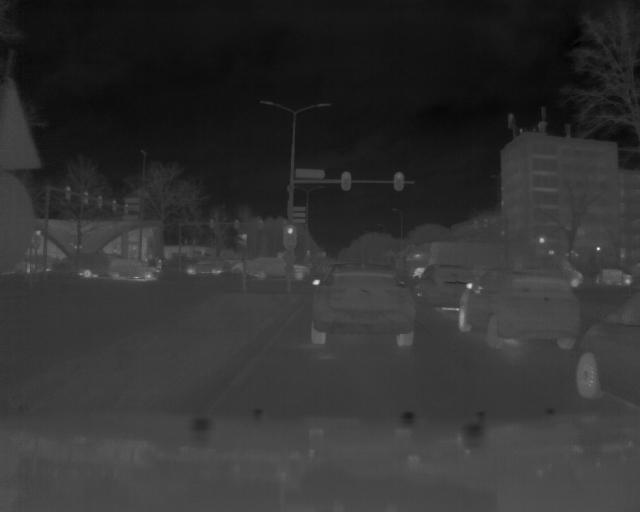car: (457, 269, 583, 355), (306, 263, 420, 351), (571, 292, 640, 415), (415, 261, 482, 314), (247, 257, 310, 283), (108, 253, 157, 285), (183, 258, 226, 275)
